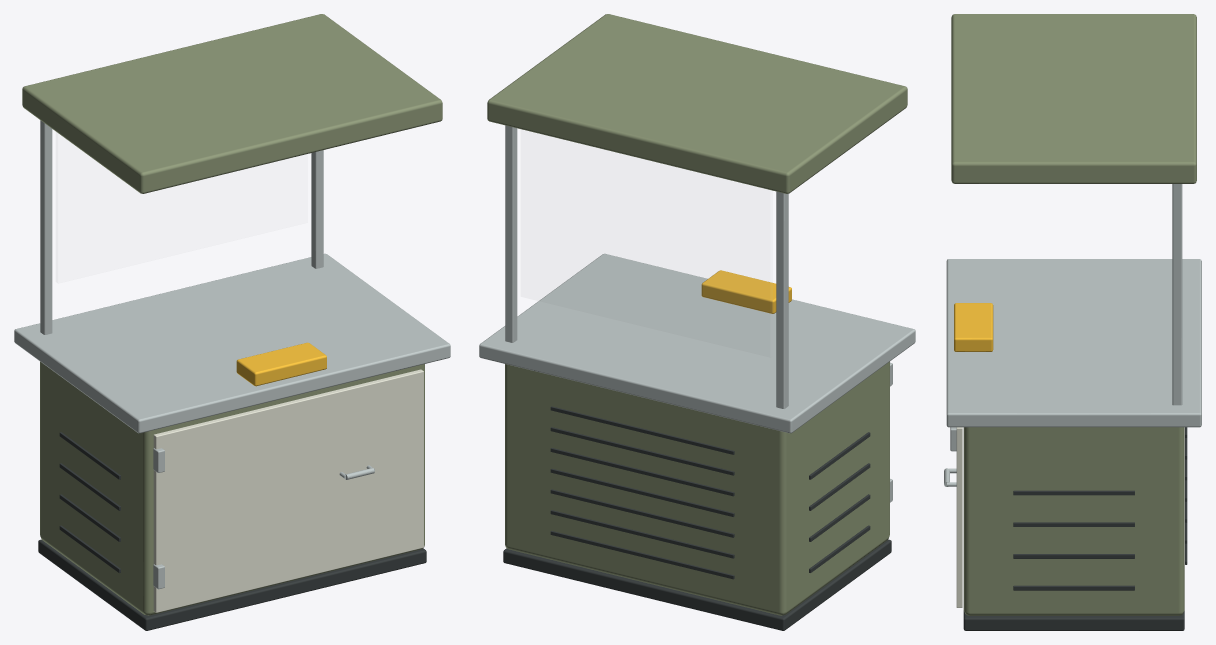
File: mountain-border-checkpoint-mountain-border-checkpoint--652145ae__30299.glb
The picture shows the model from 3 angles, left to right: view 1: azimuth 30°, elevation 25°; view 2: azimuth 150°, elevation 25°; view 3: azimuth 270°, elevation 25°; orthographic projection.
Parts seen in each view (by area): view 1: mountain-border-checkpoint-passport-booth; view 2: mountain-border-checkpoint-passport-booth; view 3: mountain-border-checkpoint-passport-booth.
Boxes of the visible parts, x1,y1,x2,y2 form: mountain-border-checkpoint-passport-booth: (14, 14, 450, 630); mountain-border-checkpoint-passport-booth: (479, 14, 915, 630); mountain-border-checkpoint-passport-booth: (944, 14, 1201, 630).
Bounding box in the file's own units: 1.5 × 2.13 × 1.05.
